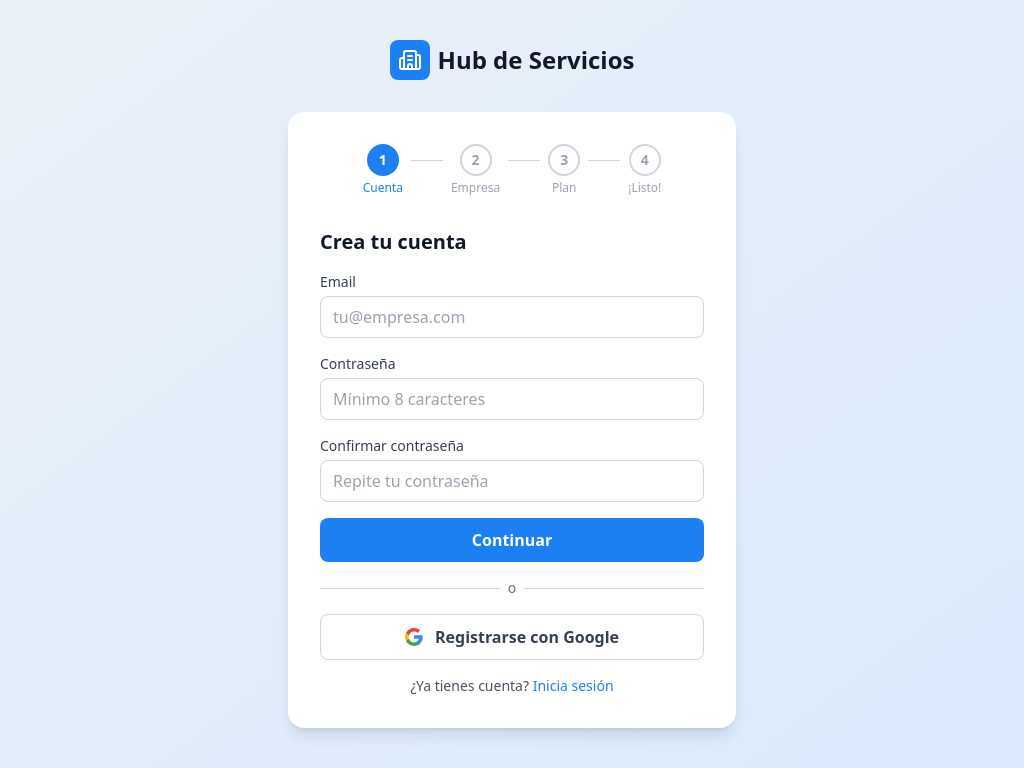
RegisterPage › avanza a paso 2 con datos válidos en paso 1
The image size is (1024, 768).
Type "user@test.com" into the field with placeholder "tu@empresa.com" at (512, 317), box [320, 296, 704, 338]
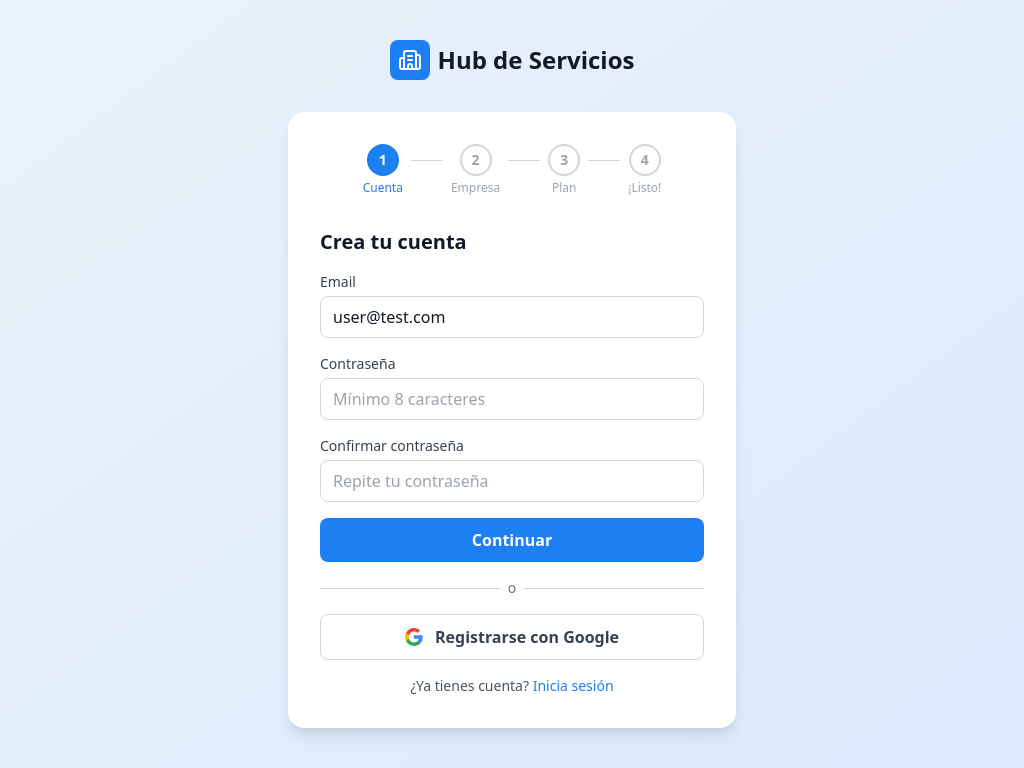
Type "password123" into the password field with placeholder "Mínimo 8 caracteres" at (512, 399), box [320, 378, 704, 420]
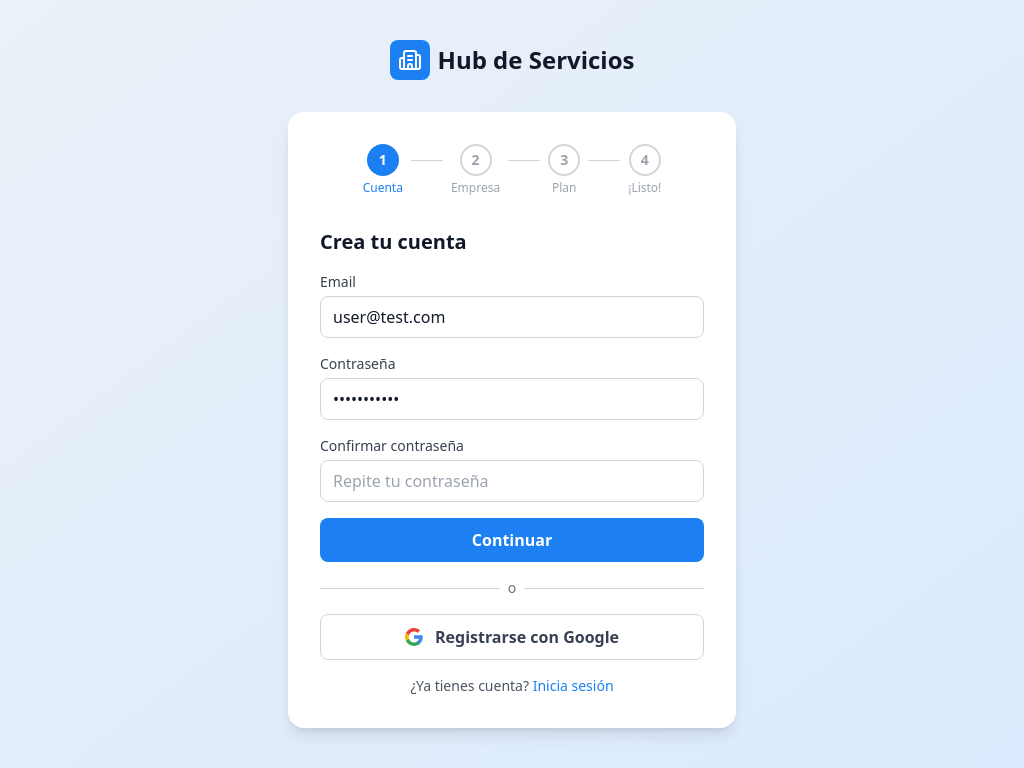
Type "password123" into the password field with placeholder "Repite tu contraseña" at (512, 481), box [320, 460, 704, 502]
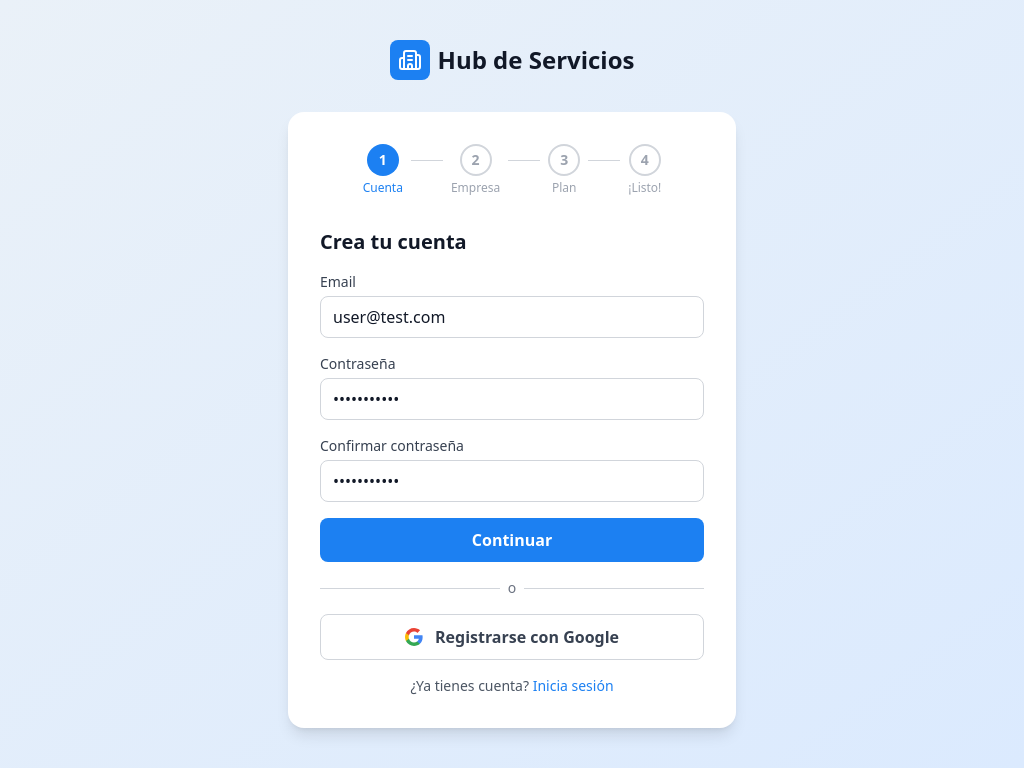
Click the button "Continuar" at (512, 540), box [320, 518, 704, 562]
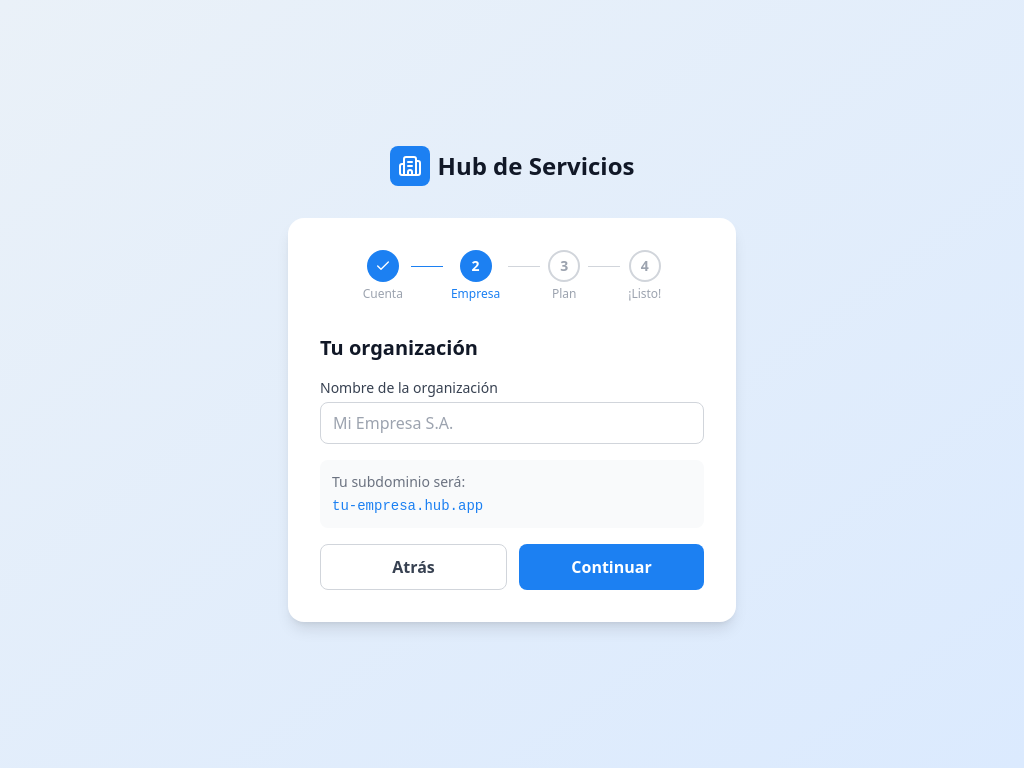
expect the heading "Tu organización" is shown: met, box [320, 334, 478, 361]
